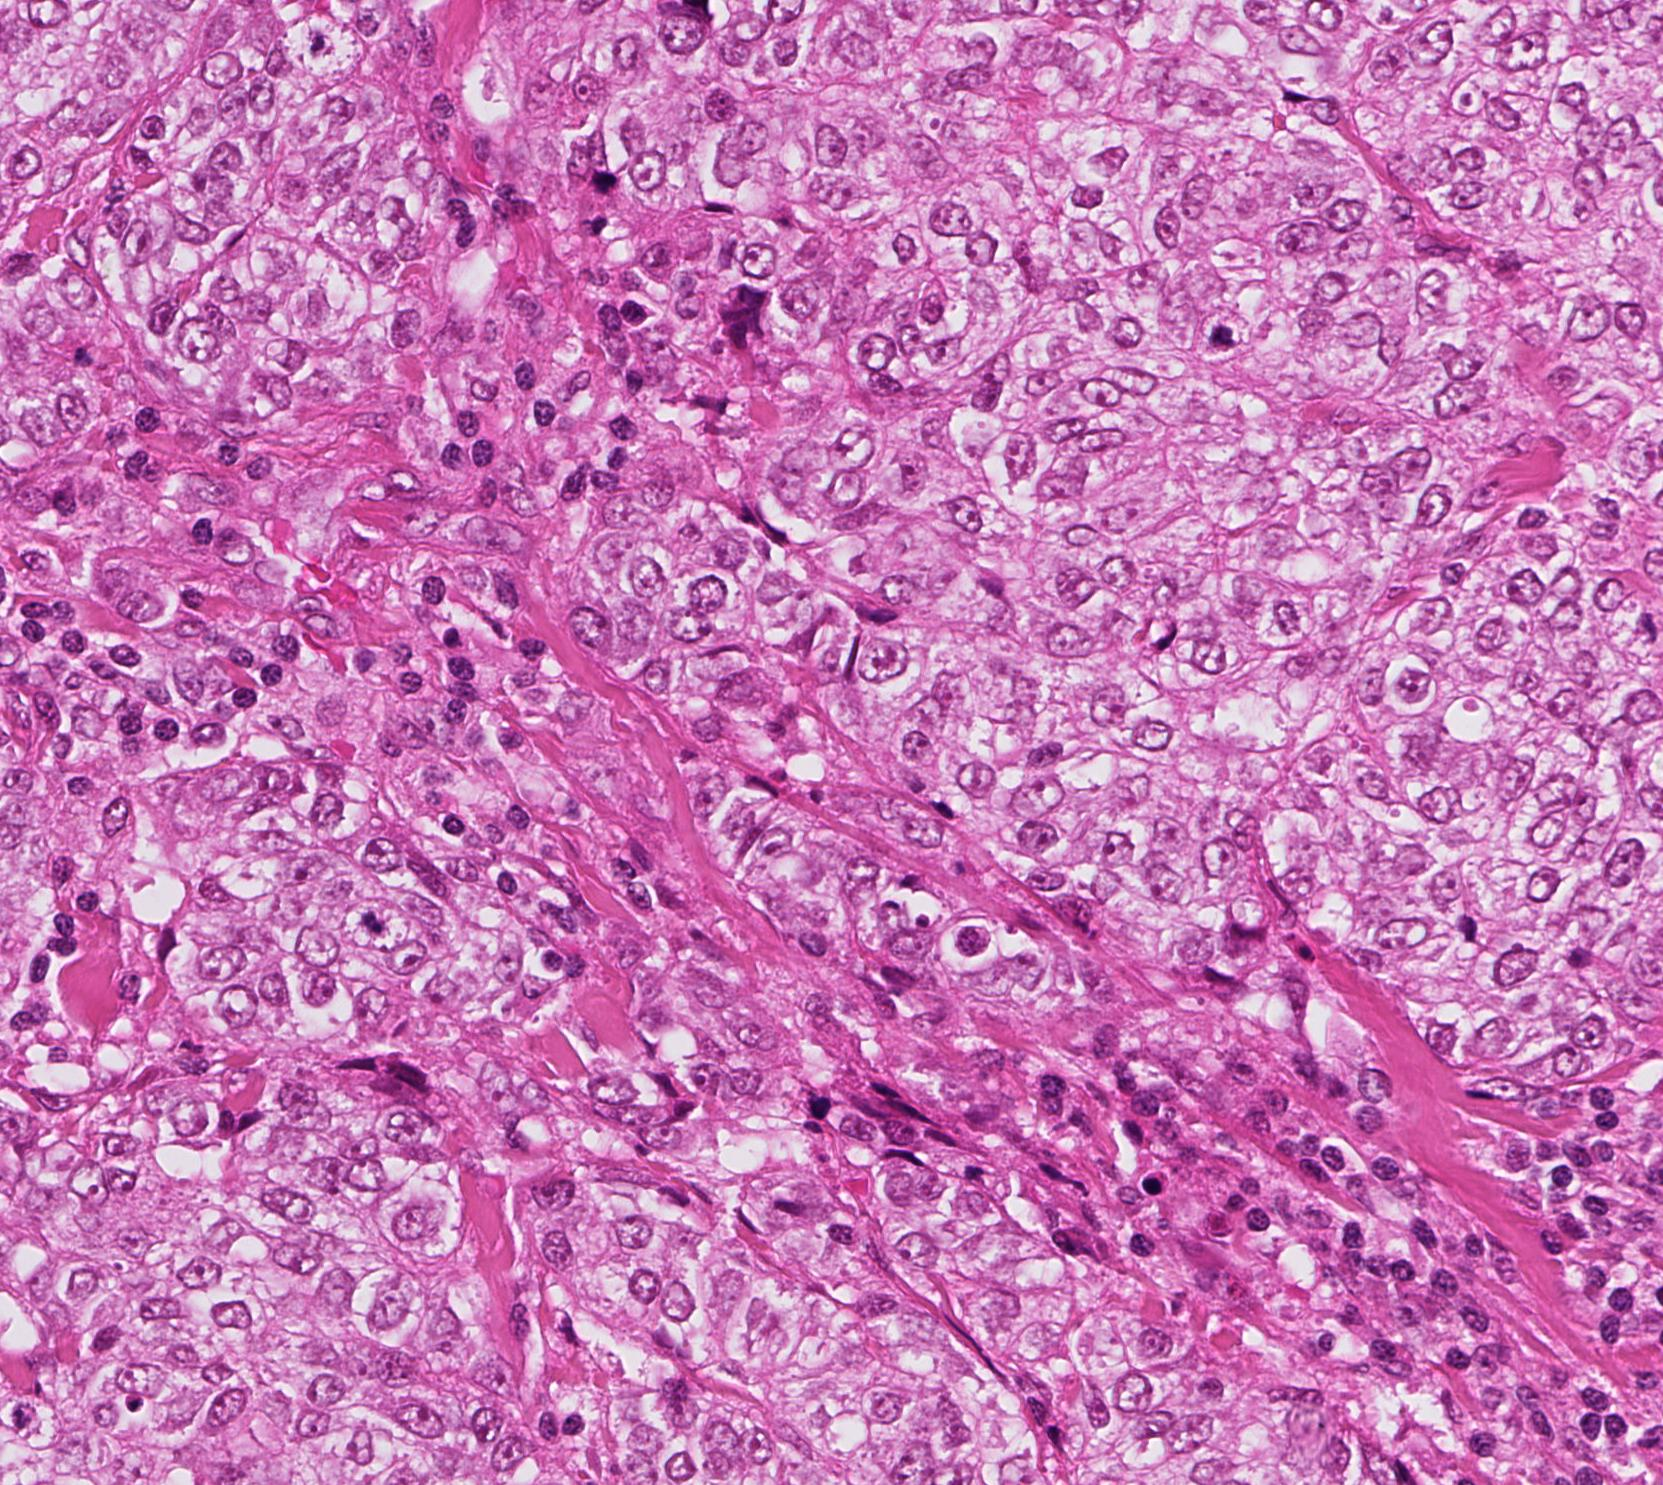mitosis: (341, 883, 401, 943)
